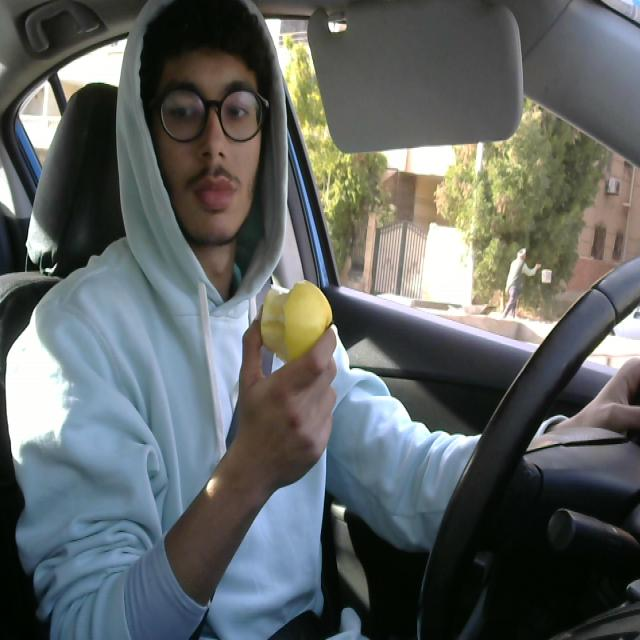eating: (250, 272, 337, 374)
